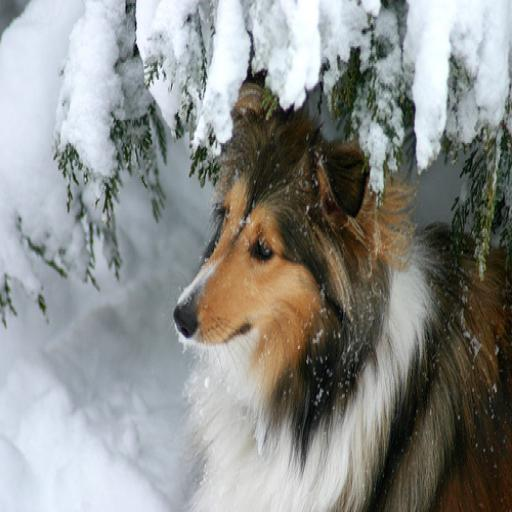dog_face: (167, 96, 361, 374)
